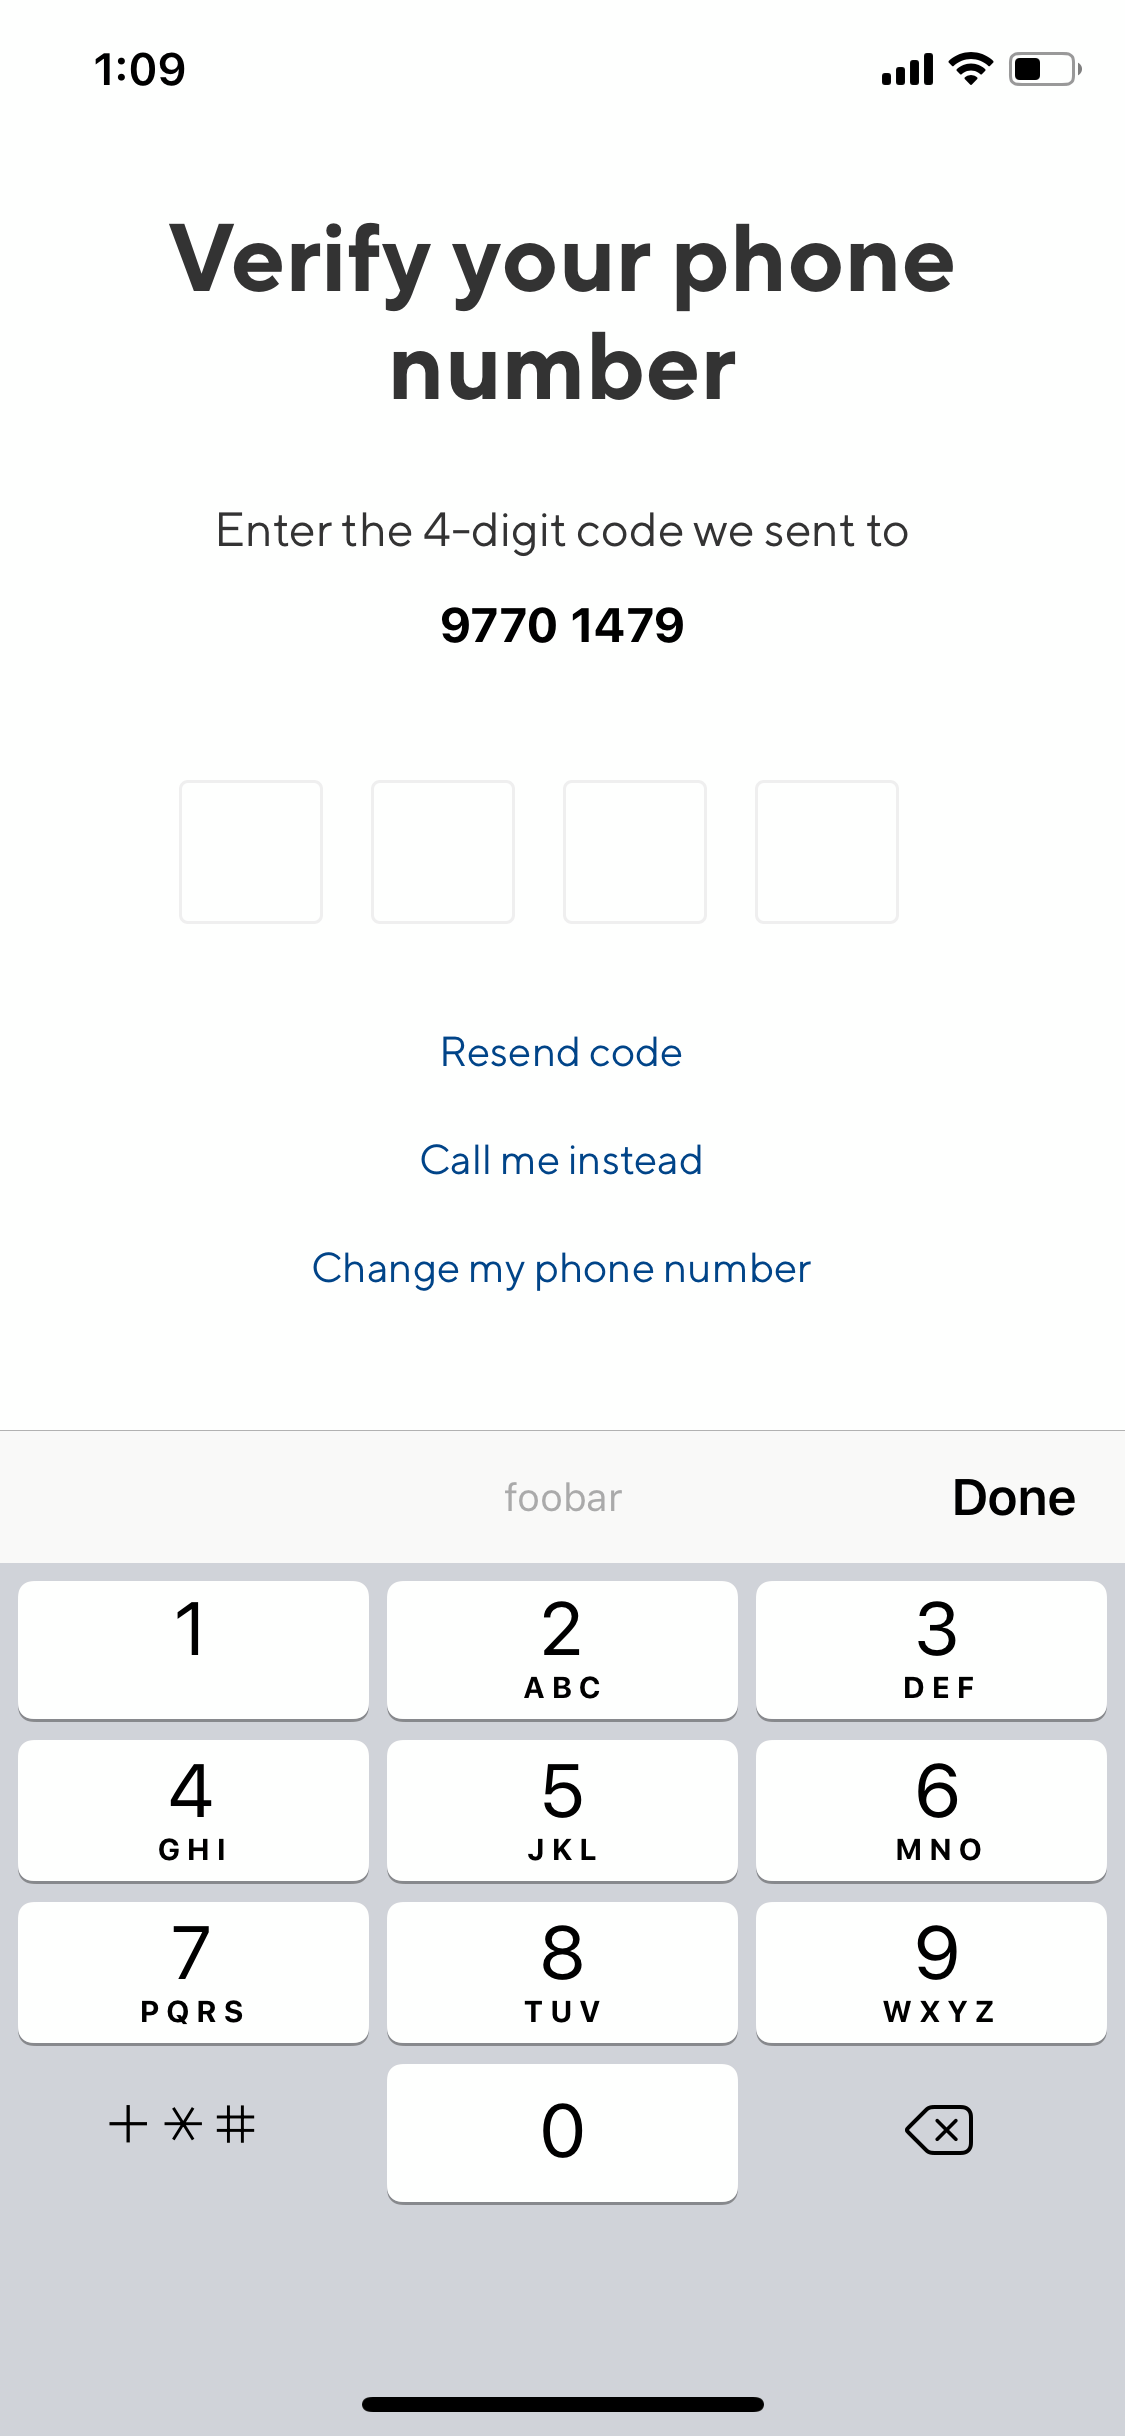Buttons: (281, 1220, 845, 1328), (406, 994, 746, 1098), (402, 1112, 741, 1201)
